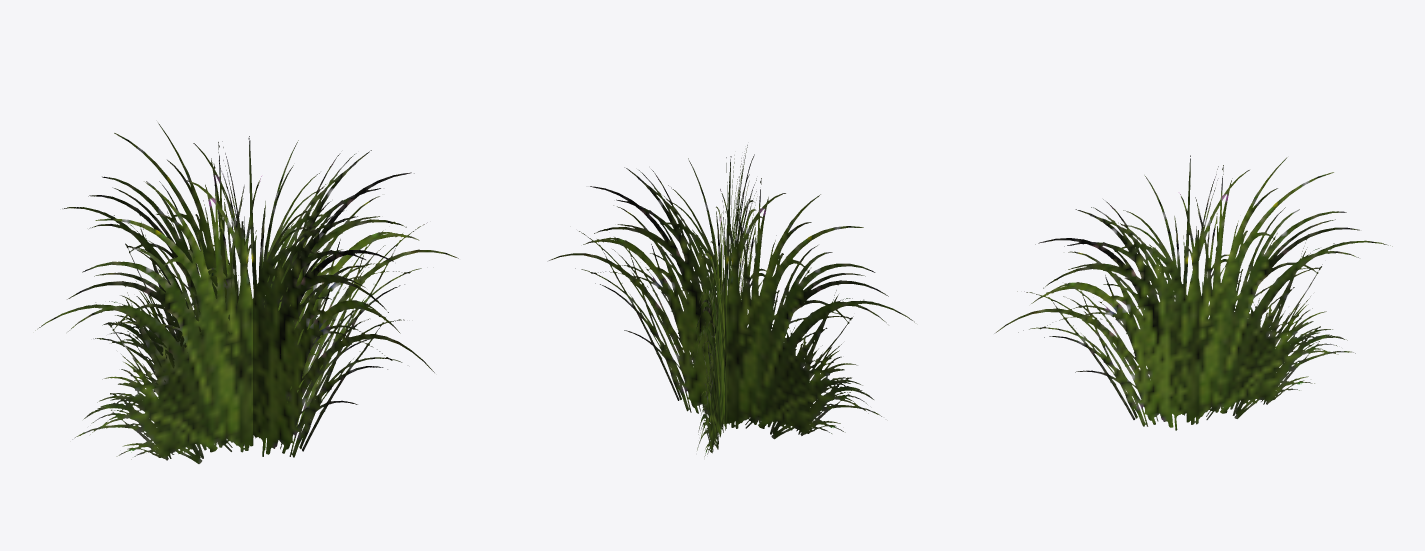
File: Herbeta.FBX
3 renders of one model, left to right at view 1: azimuth 30°, elevation 25°; view 2: azimuth 150°, elevation 25°; view 3: azimuth 270°, elevation 25°, orthographic. The views are drawn at different scales.
Visible parts, largest first — view 1: Plane003, Plane005; view 2: Plane003, Plane005; view 3: Plane005.
Part boxes in pixels (x1,y1,x2,y2): Plane003: (35, 138, 458, 463); Plane005: (62, 123, 434, 457); Plane003: (547, 156, 914, 439); Plane005: (690, 145, 762, 456); Plane005: (994, 155, 1392, 430).
Size of the model in its own units: 5 by 3.73 by 4.7.
1 material, 1 textured.
